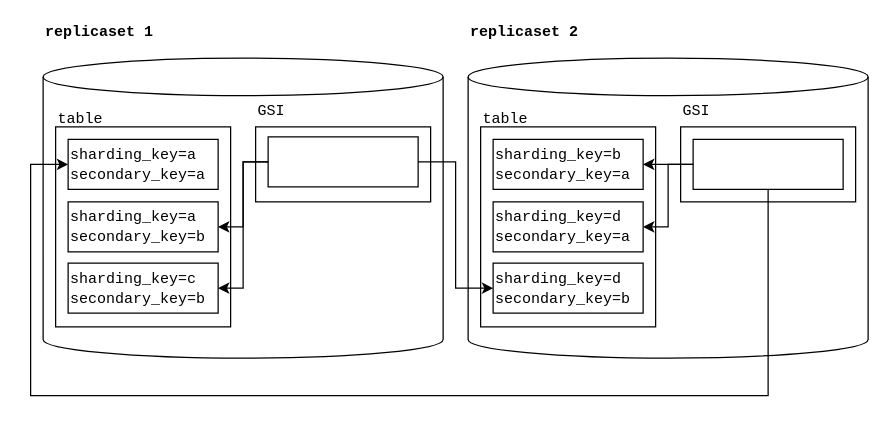
Image size: 890x446. Some labels were removed from this diagram. Each missing label, with the centre of its shape:
"secondary_key=a" goes at (x=767, y=163).
"secondary_key=b" goes at (x=342, y=161).
